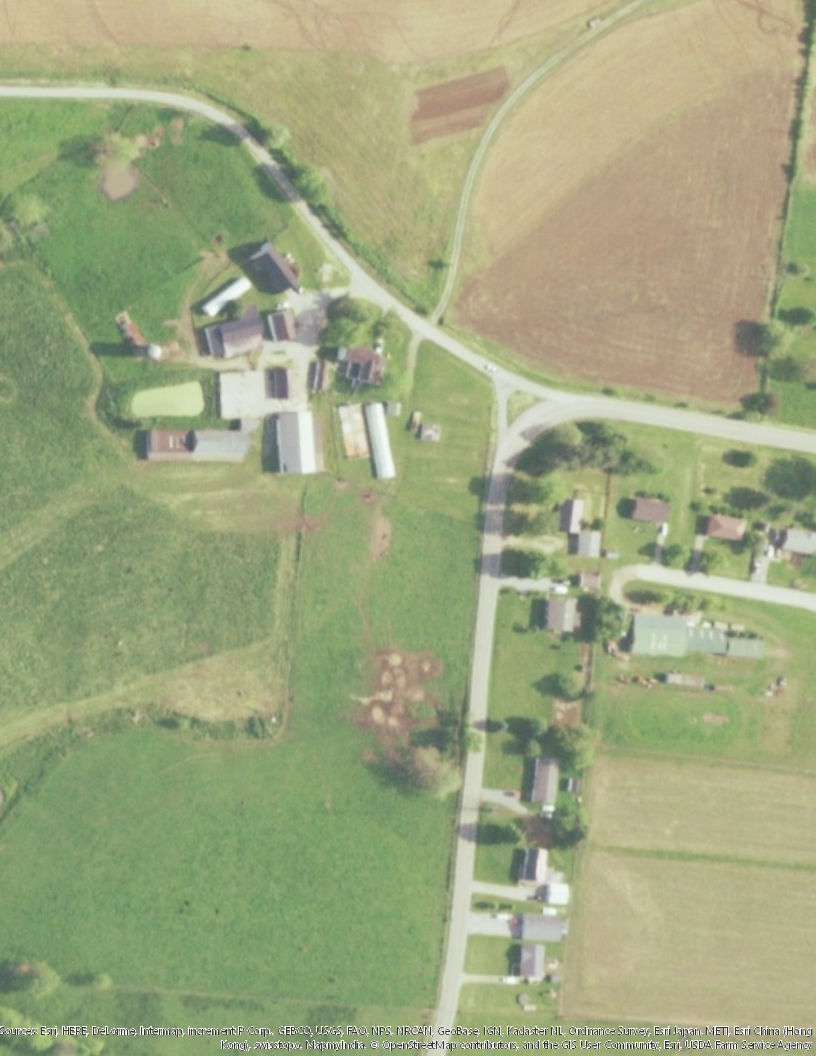cafo: (351, 395, 409, 483), (263, 402, 326, 480)
